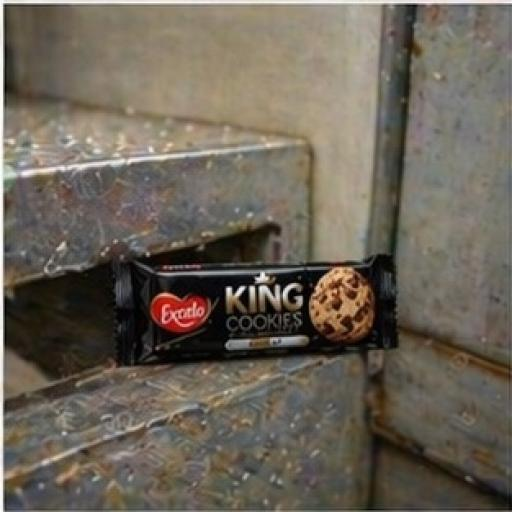king_cooking: (55, 180, 458, 408)
